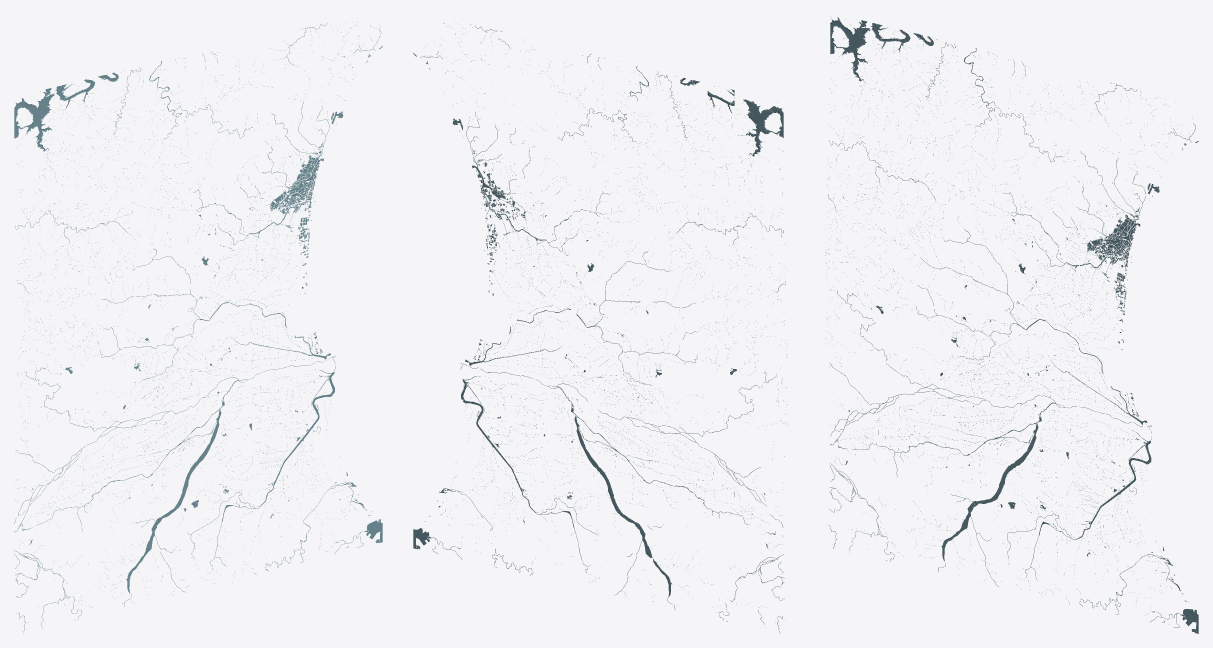
File: context-water.glb
3 views of the same model, side by side, from view 1: azimuth 30°, elevation 25°; view 2: azimuth 150°, elevation 25°; view 3: azimuth 330°, elevation 25° (orthographic).
Visible parts, largest first — view 1: water-far--1-4; view 2: no part large enough to name; view 3: water-far--1-4.
Boxes of the visible parts, x1,y1,x2,y2 form: water-far--1-4: [278, 173, 305, 207]; water-far--1-4: [1095, 226, 1122, 257].
Bounding box in the file's own units: 27296 × 37848 × 1348.
